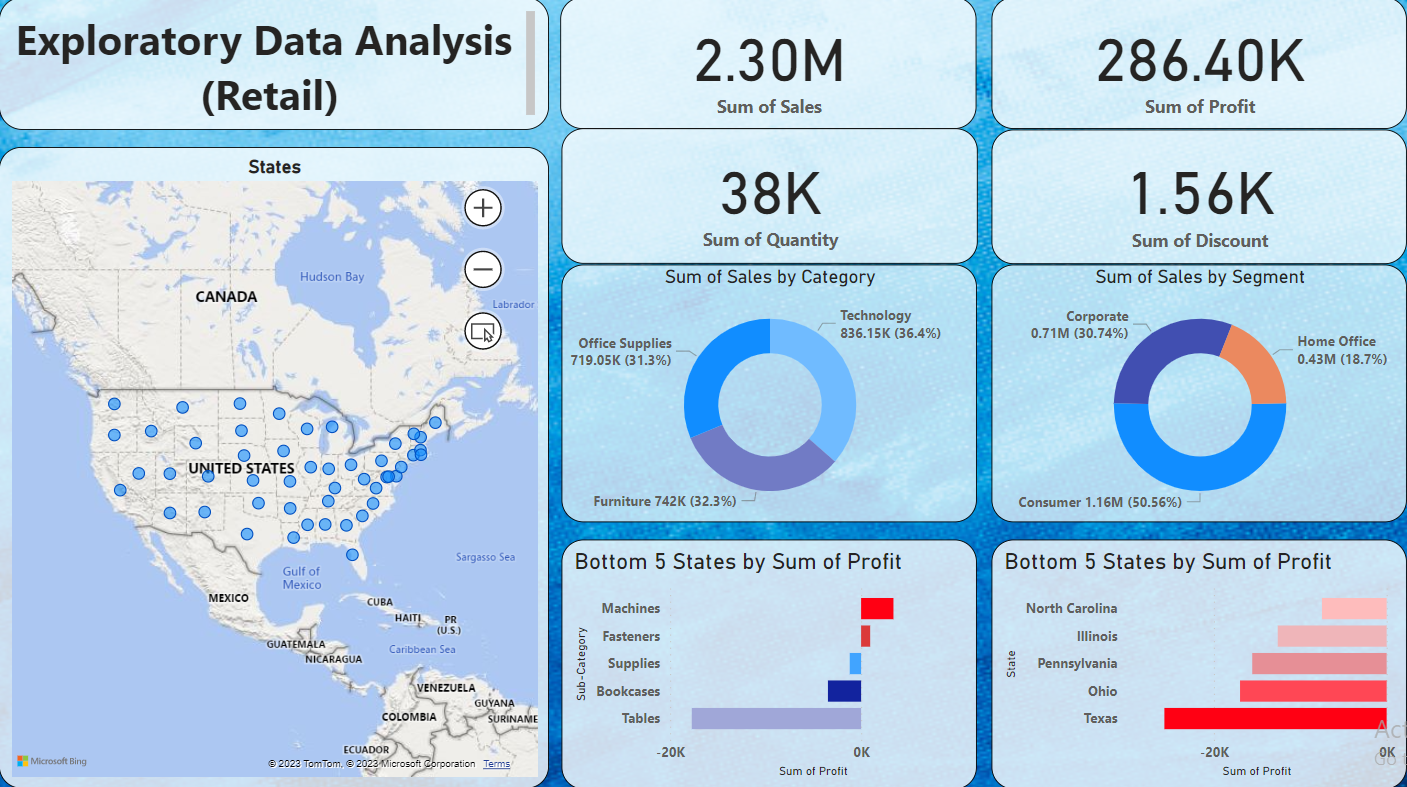

The page's visual inventory and layout, read from the dashboard file:
{"tool":"powerbi","page":{"name":"Duplicate of Page 1","canvas":[1280,720],"ordinal":1},"visuals":[{"type":"card","fields":{"Values":["Sum(SampleSuperstore.Profit)"]},"box":[902.1,0,377.7,106.3],"z":0},{"type":"card","fields":{"Values":["Sum(SampleSuperstore.Sales)"]},"box":[511,0,377.7,106.3],"z":1000},{"type":"clusteredBarChart","title":"Bottom 5 States by Sum of Profit","fields":{"Category":["SampleSuperstore.Sub-Category"],"Y":["Sum(SampleSuperstore.Profit)"]},"box":[511,492.6,377.7,227.4],"z":2000},{"type":"card","fields":{"Values":["Sum(SampleSuperstore.Discount)"]},"box":[902.1,121,377.7,106.3],"z":3000},{"type":"card","fields":{"Values":["Sum(SampleSuperstore.Quantity)"]},"box":[512.2,119.8,377.7,107.6],"z":4000},{"type":"donutChart","fields":{"Y":["Sum(SampleSuperstore.Sales)"],"Series":["SampleSuperstore.Segment"]},"box":[902.1,243.3,377.7,234.7],"z":5000},{"type":"clusteredBarChart","title":"Bottom 5 States by Sum of Profit","fields":{"Category":["SampleSuperstore.State"],"Y":["Sum(SampleSuperstore.Profit)"]},"box":[902.1,492.6,377.7,227.4],"z":6000},{"type":"map","title":"States","fields":{"Category":["SampleSuperstore.State"]},"box":[0,136.9,500,583.1],"z":7000},{"type":"donutChart","fields":{"Category":["SampleSuperstore.Category"],"Y":["Sum(SampleSuperstore.Sales)"]},"box":[511,243.3,377.7,234.7],"z":8000},{"type":"textbox","box":[0,0,500,121],"z":9000}]}

Visuals, with their boxes in screenshot pixels (x1, y1, x2, y2), scaled from the page's 1280x720 canvas onto the 1407x787 screenshot:
card - Sum(SampleSuperstore.Profit): 992/0/1406/116
card - Sum(SampleSuperstore.Sales): 562/0/977/116
"Bottom 5 States by Sum of Profit" clusteredBarChart: 562/538/977/786
card - Sum(SampleSuperstore.Discount): 992/132/1406/248
card - Sum(SampleSuperstore.Quantity): 563/131/978/249
donutChart - Sum(SampleSuperstore.Sales) x SampleSuperstore.Segment: 992/266/1406/522
"Bottom 5 States by Sum of Profit" clusteredBarChart: 992/538/1406/786
"States" map: 0/150/550/786
donutChart - SampleSuperstore.Category x Sum(SampleSuperstore.Sales): 562/266/977/522
textbox: 0/0/550/132
